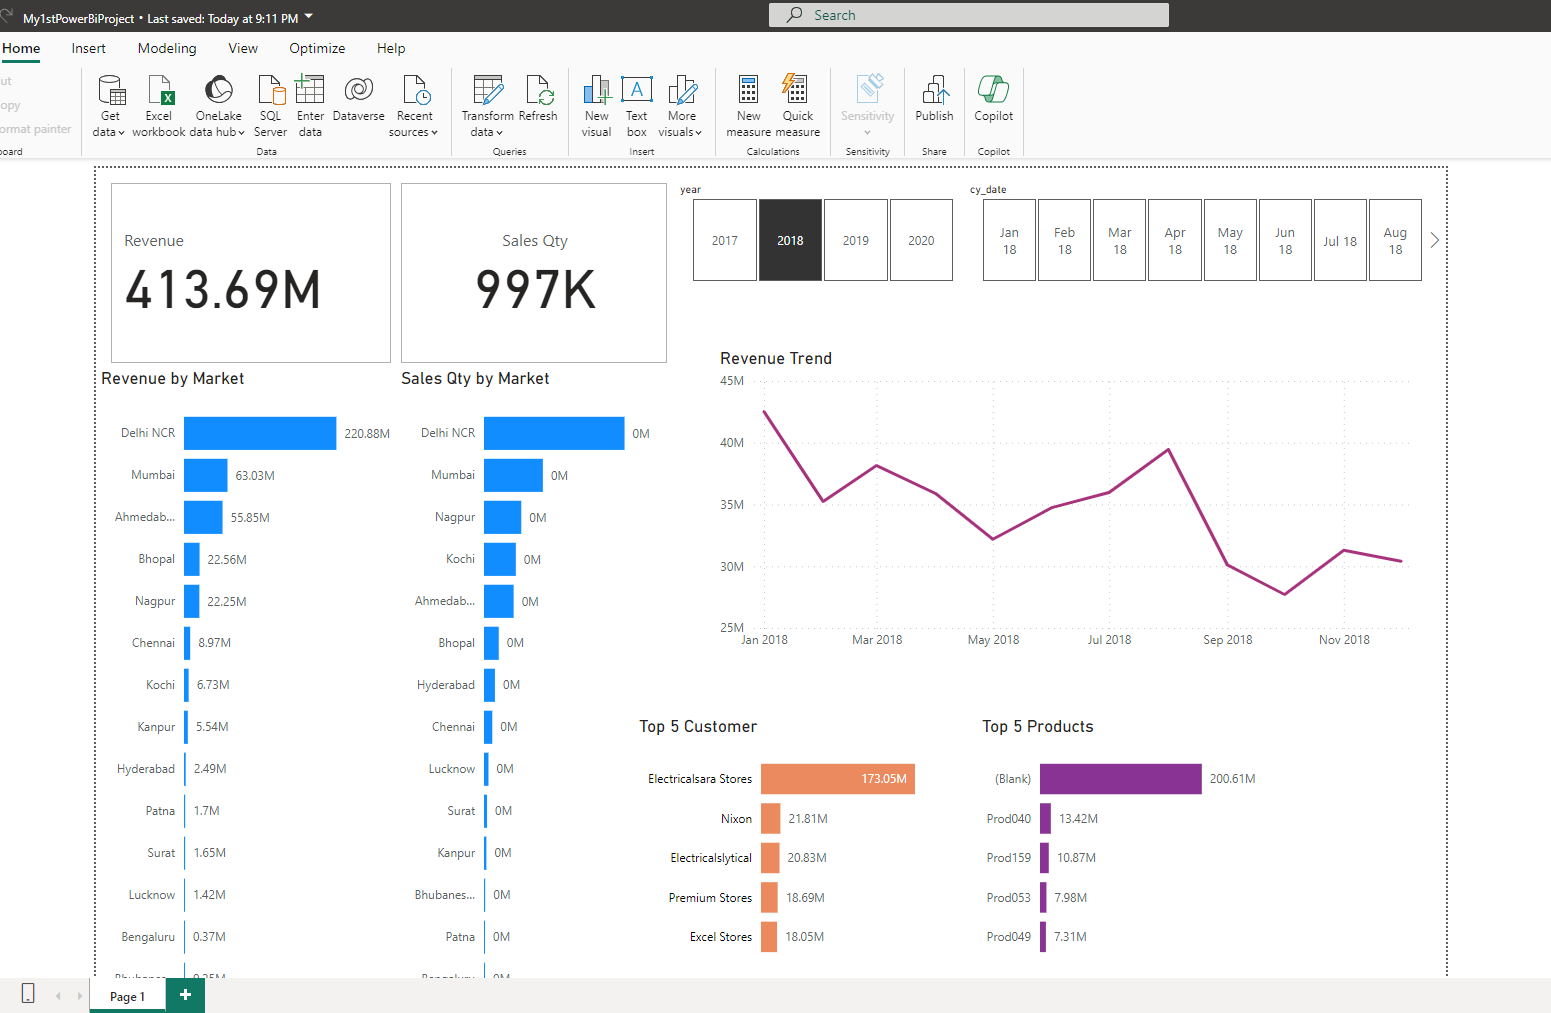

What the dashboard file says about the page in this screenshot:
{"tool":"powerbi","page":{"name":"Page 1","canvas":[1350,850],"ordinal":0},"visuals":[{"type":"cardVisual","fields":{"Data":["basemeasure.Sales Qty"]},"box":[300,10,275.7,190],"z":0},{"type":"cardVisual","fields":{"Data":["basemeasure.Revenue"]},"box":[10,10,290,190],"z":1000},{"type":"barChart","title":"Revenue by Market","fields":{"Y":["basemeasure.Revenue"],"Category":["sales markets.markets_name"]},"box":[0,200,300,650],"z":2000},{"type":"barChart","title":"Sales Qty by Market","fields":{"Y":["basemeasure.Sales Qty"],"Category":["sales markets.markets_name"]},"box":[300,200,300,650],"z":3000},{"type":"slicer","fields":{"Values":["sales date.year"]},"box":[571.2,10,310,110],"z":4000},{"type":"slicer","fields":{"Values":["sales date.cy_date"]},"box":[861.4,10,488.6,110],"z":5000},{"type":"barChart","title":"Top 5 Customer","fields":{"Y":["basemeasure.Revenue"],"Category":["sales customers.custmer_name"]},"box":[537.5,547.5,310,258.8],"z":6000},{"type":"barChart","title":"Top 5 Products","fields":{"Y":["basemeasure.Revenue"],"Category":["sales products.product_code"]},"box":[881.2,547.5,310,258.8],"z":7000},{"type":"lineChart","title":"Revenue Trend","fields":{"Y":["basemeasure.Revenue"],"Category":["sales date.cy_date.Variation.Date Hierarchy.Year","sales date.cy_date.Variation.Date Hierarchy.Quarter","sales date.cy_date.Variation.Date Hierarchy.Month","sales date.cy_date.Variation.Date Hierarchy.Day"]},"box":[618.8,180,717.5,310],"z":8000}]}

Visuals, with their boxes on the page's 1350x850 design canvas (x1, y1, x2, y2). These are canvas units, not pixel positions in the 1551x1013 screenshot, which may show the page scaled, cropped or inside an application window:
cardVisual - basemeasure.Sales Qty: box(300, 10, 576, 200)
cardVisual - basemeasure.Revenue: box(10, 10, 300, 200)
"Revenue by Market" barChart: box(0, 200, 300, 850)
"Sales Qty by Market" barChart: box(300, 200, 600, 850)
slicer - sales date.year: box(571, 10, 881, 120)
slicer - sales date.cy_date: box(861, 10, 1350, 120)
"Top 5 Customer" barChart: box(538, 548, 848, 806)
"Top 5 Products" barChart: box(881, 548, 1191, 806)
"Revenue Trend" lineChart: box(619, 180, 1336, 490)
